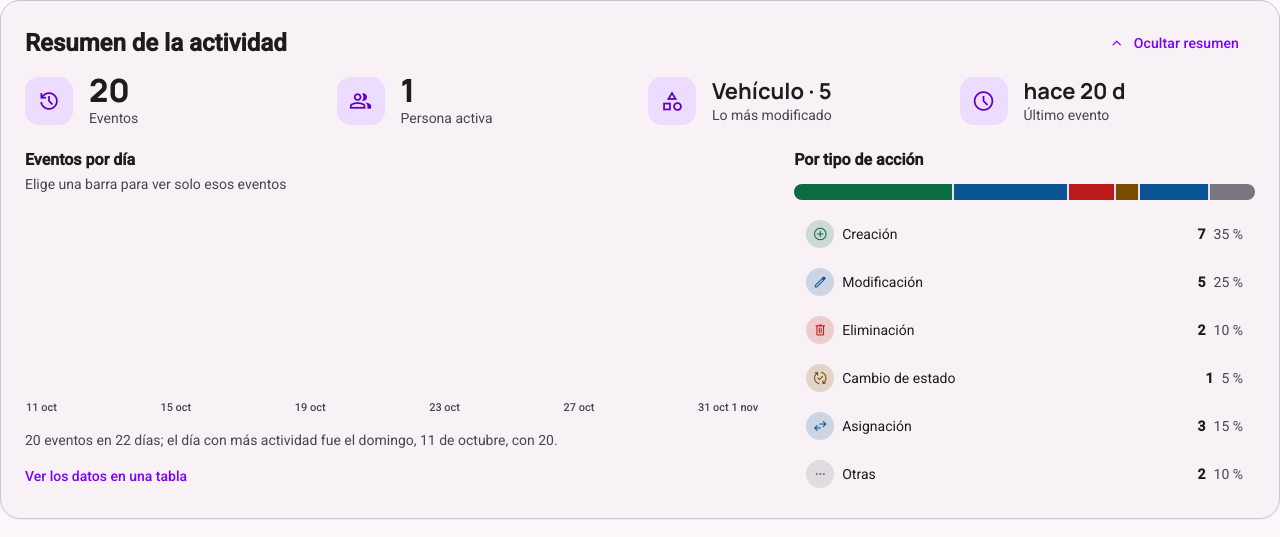
Test: ActivityPanelComponent › plegado › se puede ocultar y la elección se recuerda
What coordinates should you click on to do the following:
click the button with class "audit-panel-toggle"
I would click on:
 (1175, 43)
Its box is 1096,21 -> 1255,65.
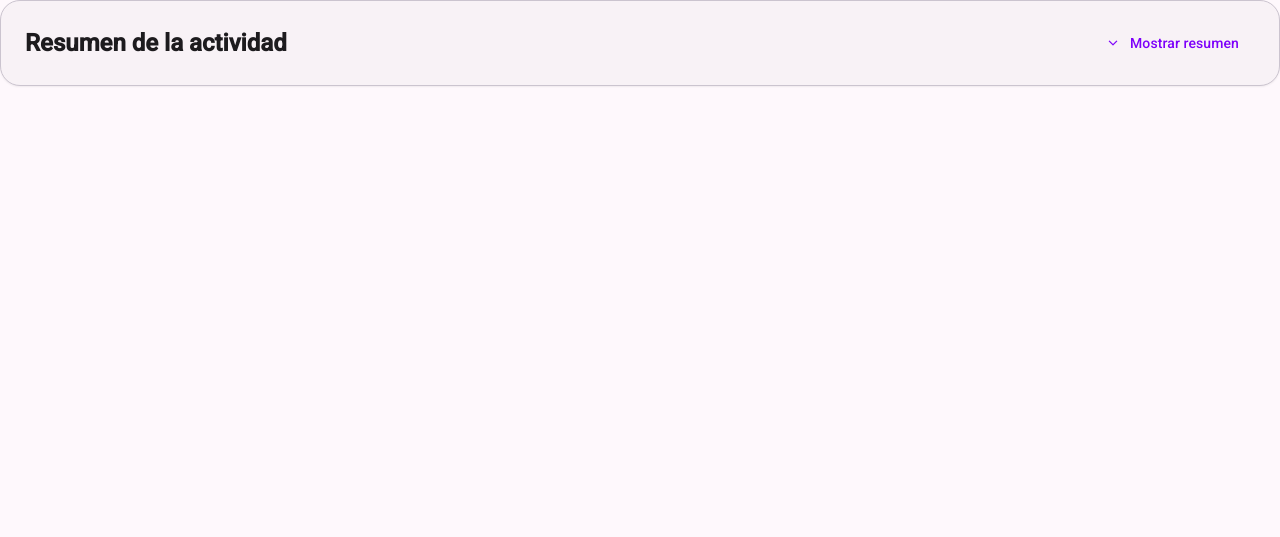
Check: the button with class "audit-panel-toggle" reads "Mostrar resumen", box 1092,21 -> 1255,65
Check: the button with class "audit-panel-toggle" is collapsed, box 1092,21 -> 1255,65
